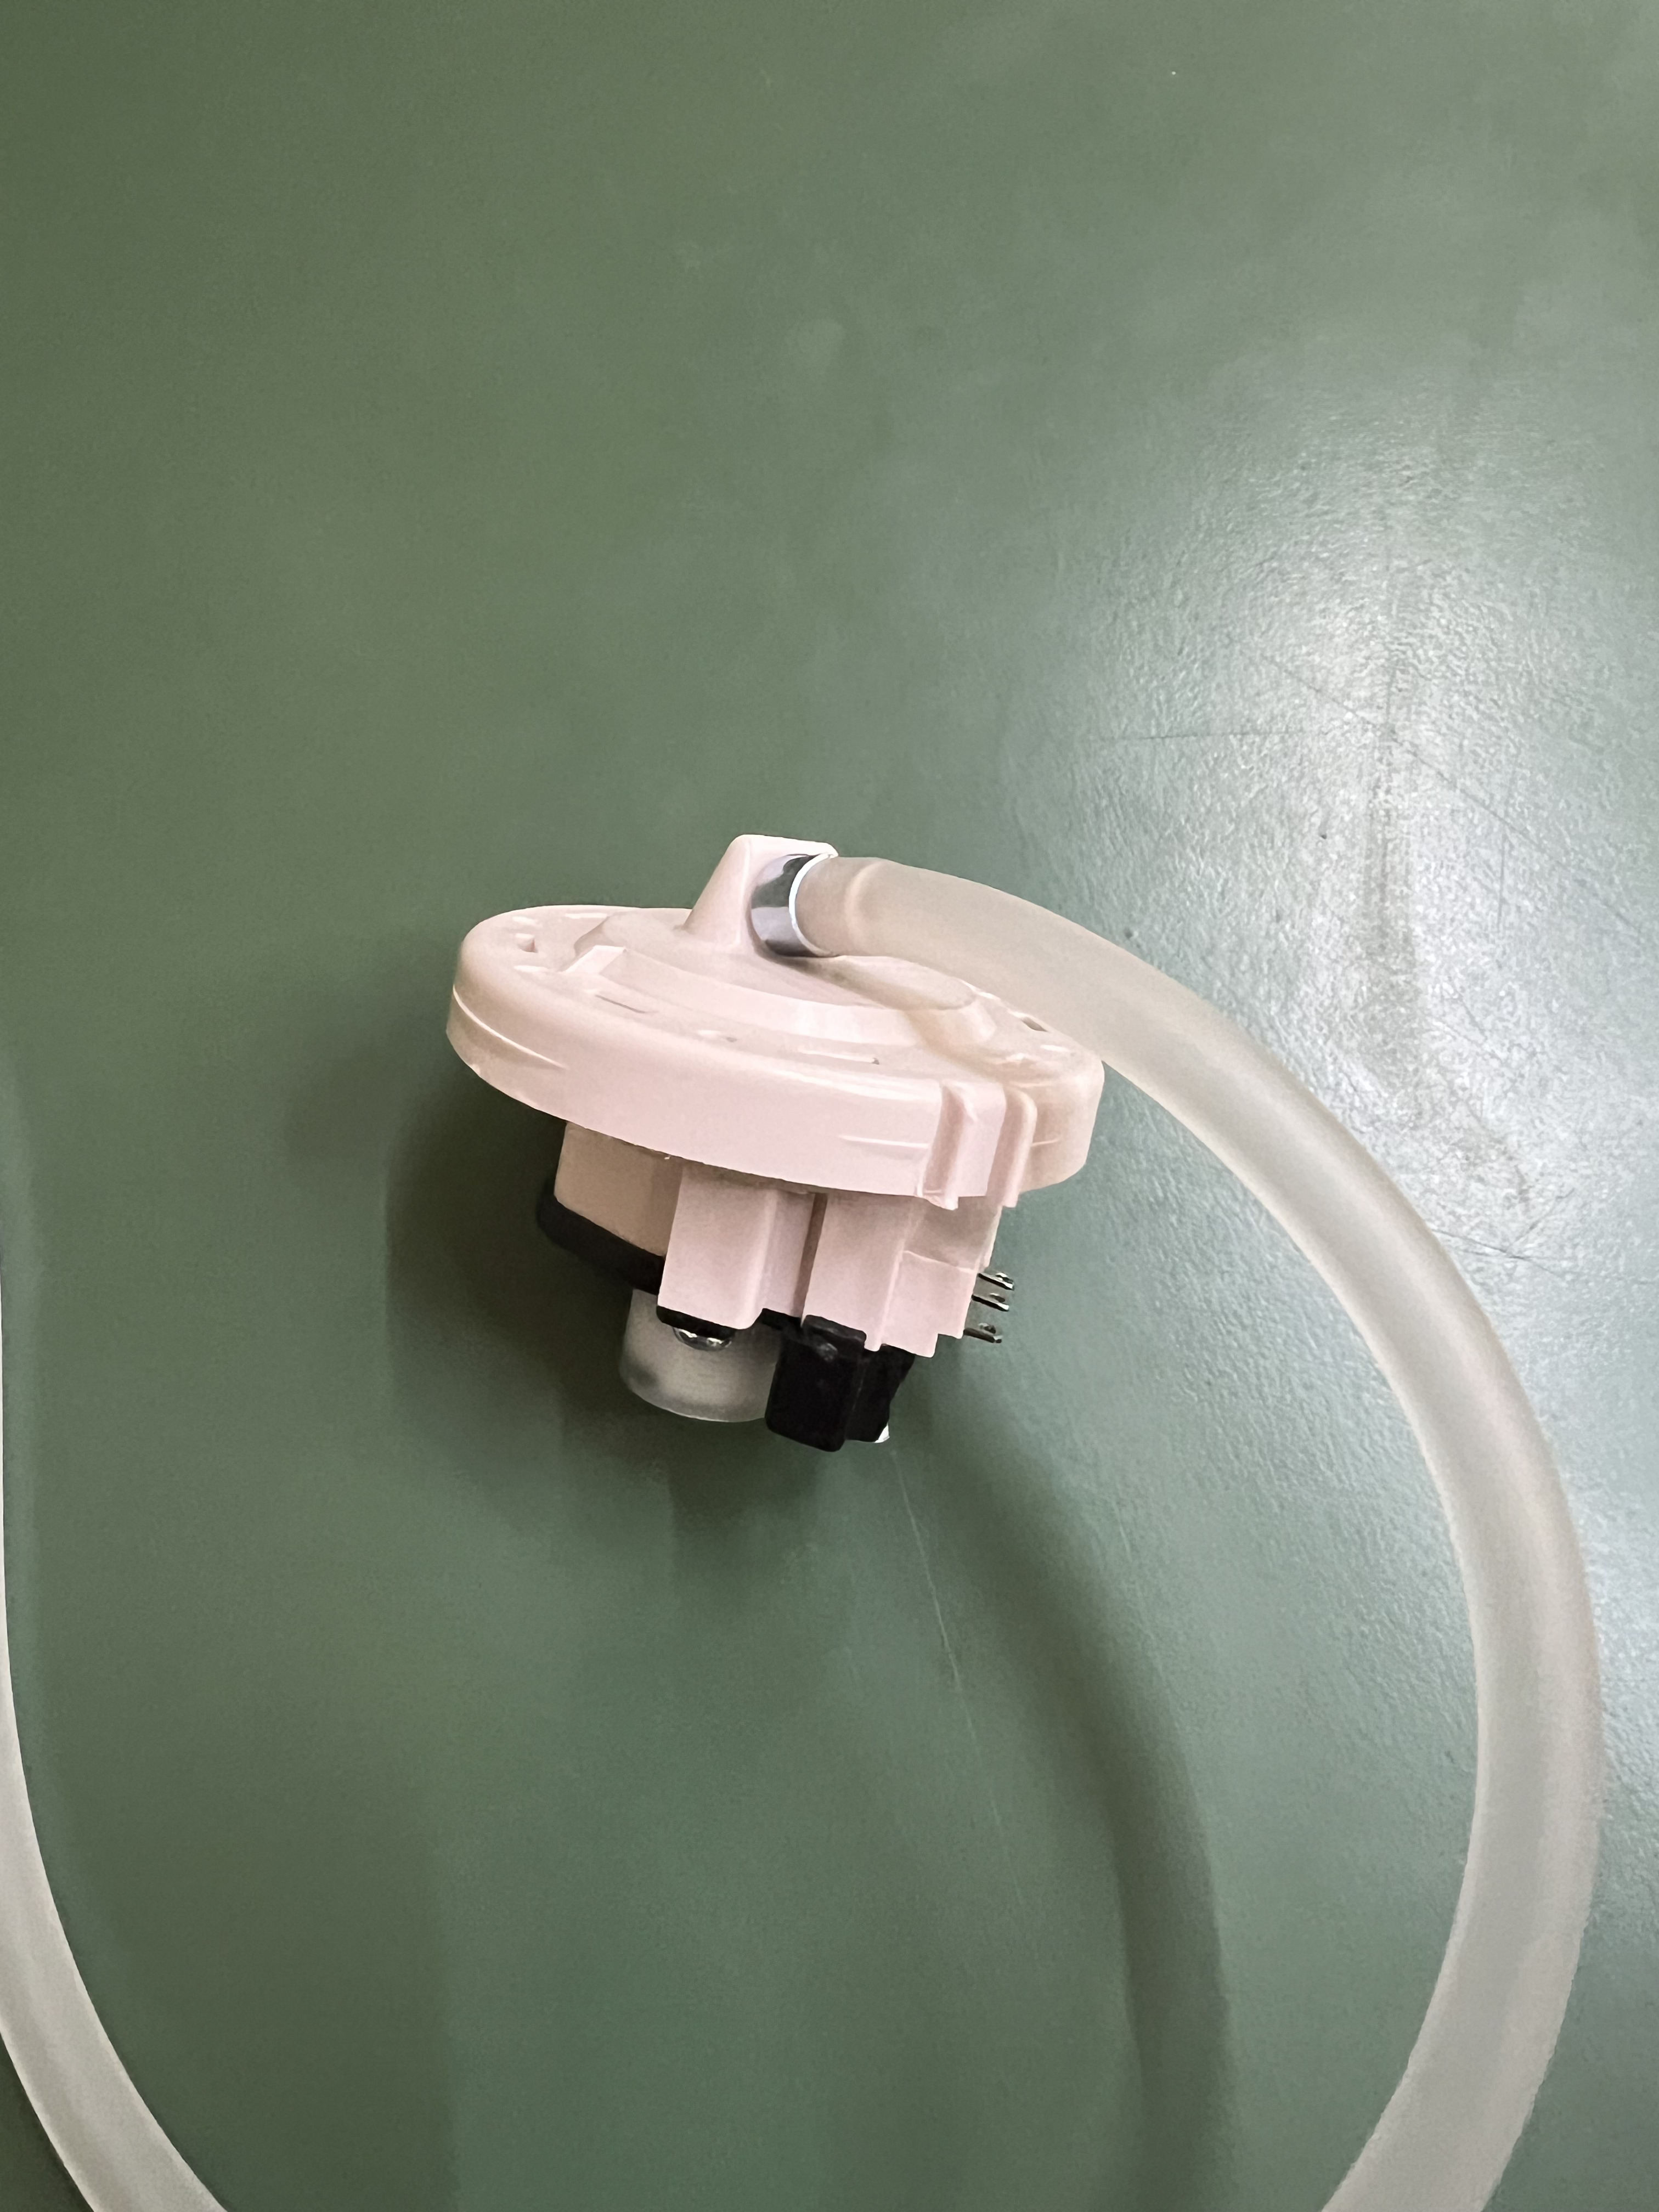pressure_sensor: (430, 801, 1183, 1538)
